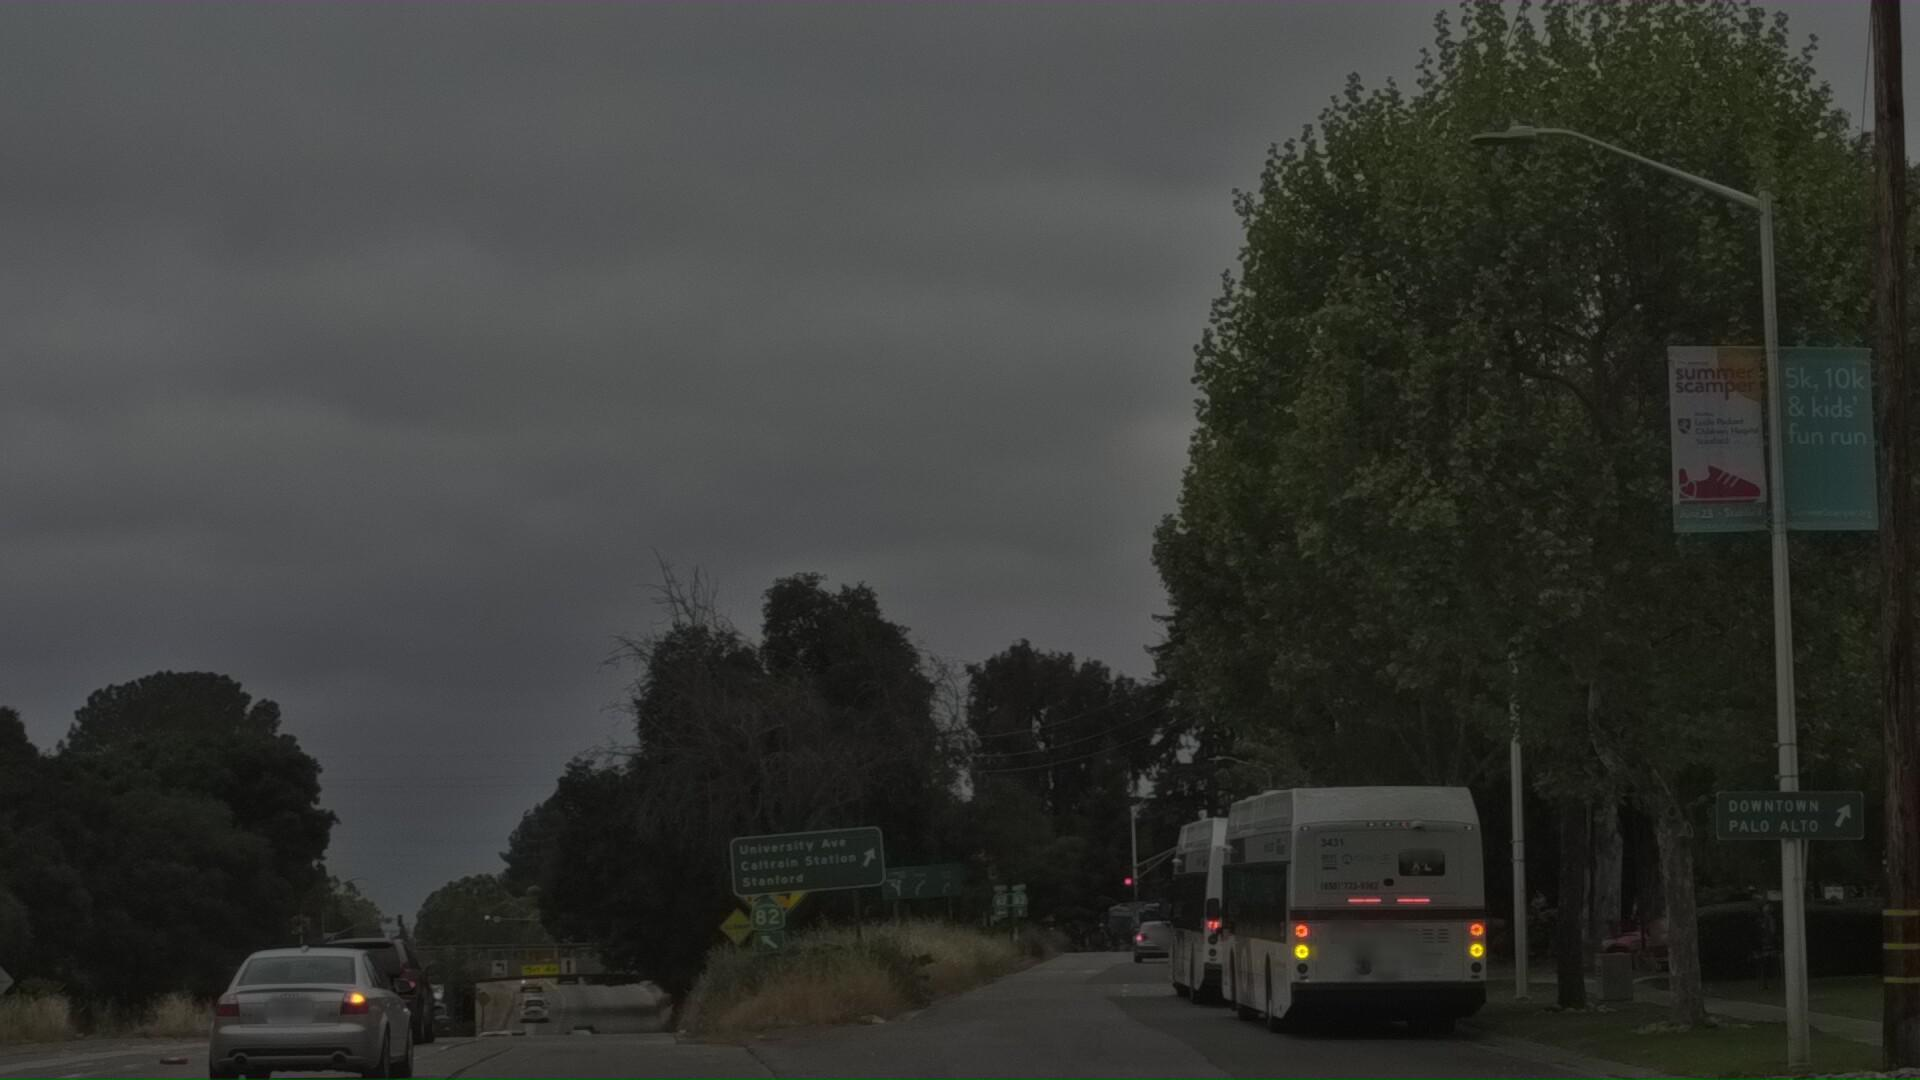bus: (1197, 777, 1523, 1077), (1154, 822, 1373, 1048)
car: (191, 920, 446, 1080), (287, 938, 446, 1076)
